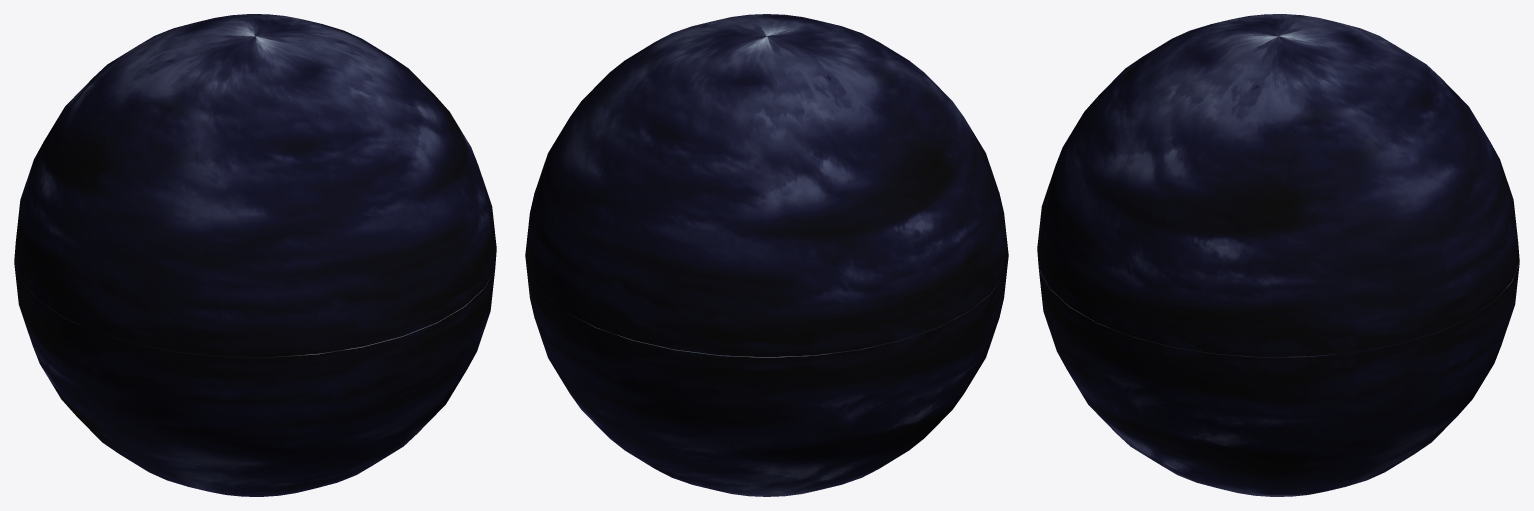
The model's file is sky_night.FBX.
3 views of the same model, side by side, from view 1: azimuth 30°, elevation 25°; view 2: azimuth 150°, elevation 25°; view 3: azimuth 270°, elevation 25° (orthographic).
Visible parts, largest first — view 1: sky_night; view 2: sky_night; view 3: sky_night.
Boxes of the visible parts, x1,y1,x2,y2 form: sky_night: (14,14,496,496); sky_night: (525,14,1008,496); sky_night: (1037,14,1519,496).
Size of the model in its own units: 8482 by 8500 by 8482.
